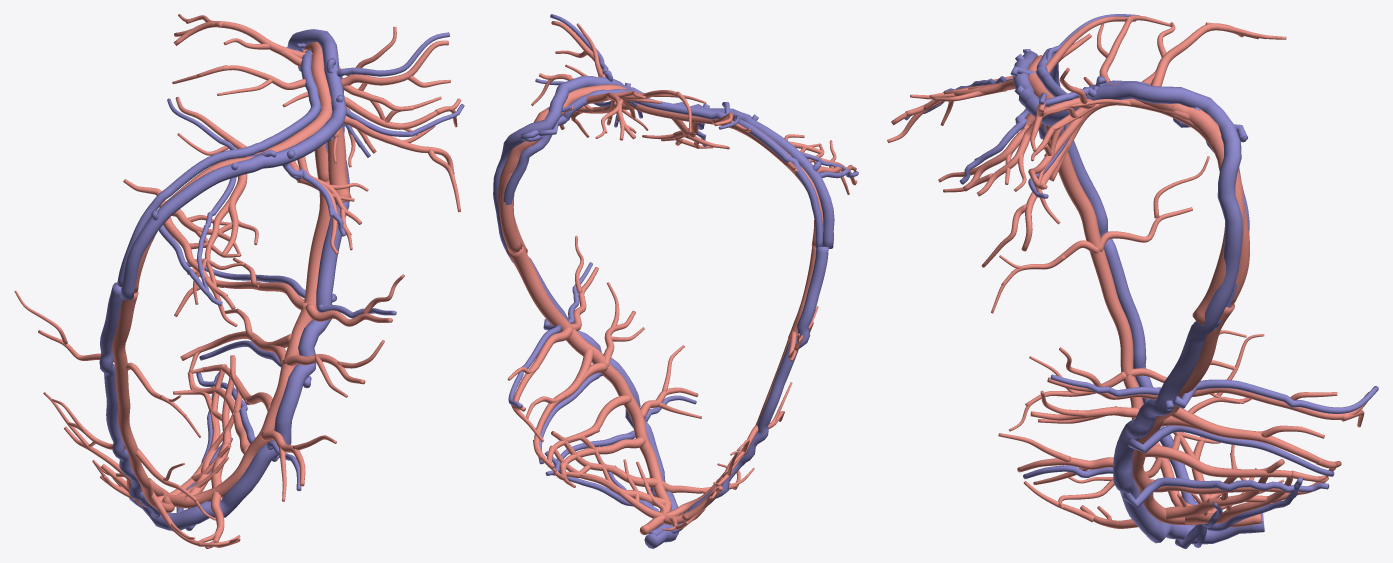
Rendered from vessels_39.glb.
The picture shows the model from 3 angles, left to right: view 1: azimuth 30°, elevation 25°; view 2: azimuth 150°, elevation 25°; view 3: azimuth 270°, elevation 25°; orthographic projection. The views are drawn at different scales.
Parts seen in each view (by area): view 1: Renderer Node; view 2: Renderer Node; view 3: Renderer Node.
Boxes of the visible parts, left/top/right/bottom form: Renderer Node: left=14, top=14, right=464, bottom=548; Renderer Node: left=493, top=14, right=858, bottom=548; Renderer Node: left=887, top=14, right=1378, bottom=548.
Size of the model in its own units: 94.47 by 122 by 95.3.
